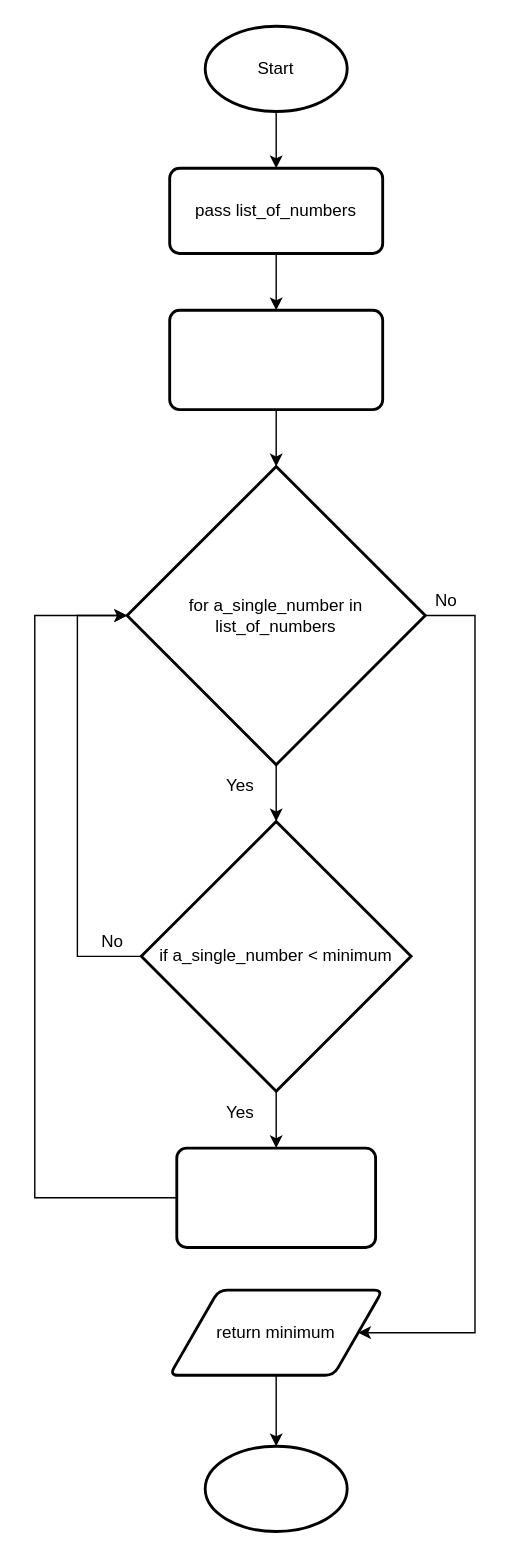
Some shapes in this 511 by 1556 pixel diagram are drawn without their labels. The shapes that lost their labels are listed below. From the top down, each one's centre as x and y in pixels, then its label:
At (275,359): "minimum = list_of_numbers[0]".
At (275,1197): "minimum = a_single_number".
At (275,1488): "Stop".
